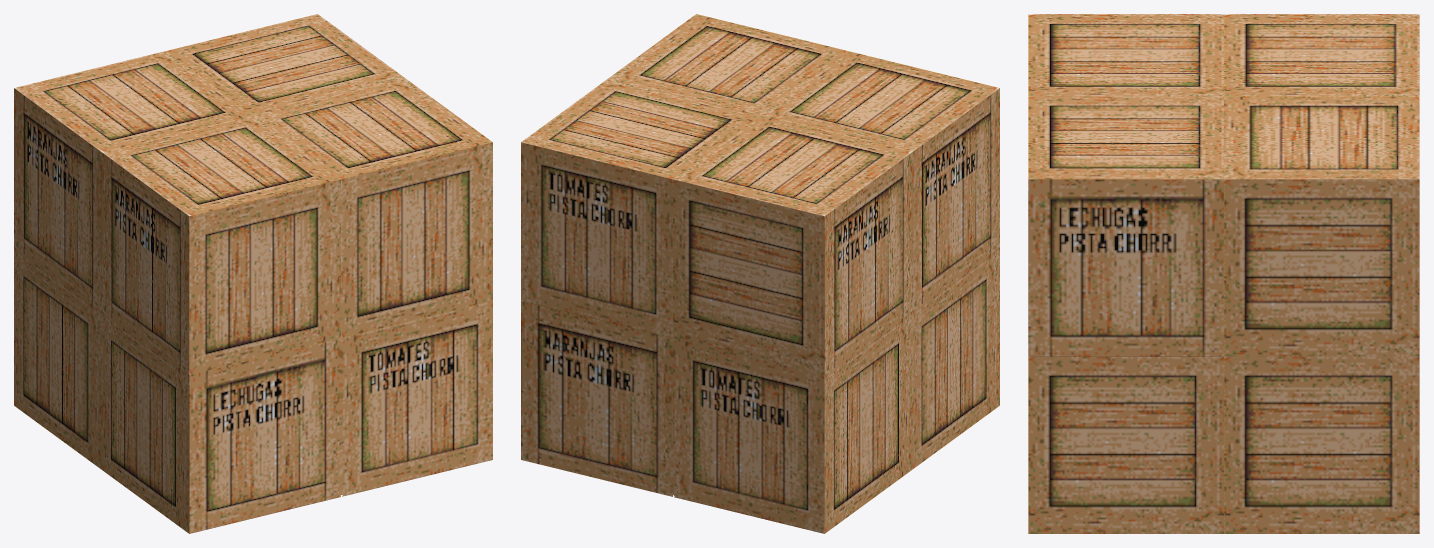
The model's file is Cajas-2x2x2.fbx.
3 views of the same model, side by side, from view 1: azimuth 30°, elevation 25°; view 2: azimuth 150°, elevation 25°; view 3: azimuth 270°, elevation 25° (orthographic). The views are drawn at different scales.
Visible parts, largest first — view 1: Cajas-2x2x2; view 2: Cajas-2x2x2; view 3: Cajas-2x2x2.
Part boxes in pixels (left/top/right/bottom): Cajas-2x2x2: left=14, top=14, right=492, bottom=533; Cajas-2x2x2: left=521, top=14, right=999, bottom=533; Cajas-2x2x2: left=1028, top=14, right=1419, bottom=533.
Bounding box in the file's own units: 2 × 2 × 2.
